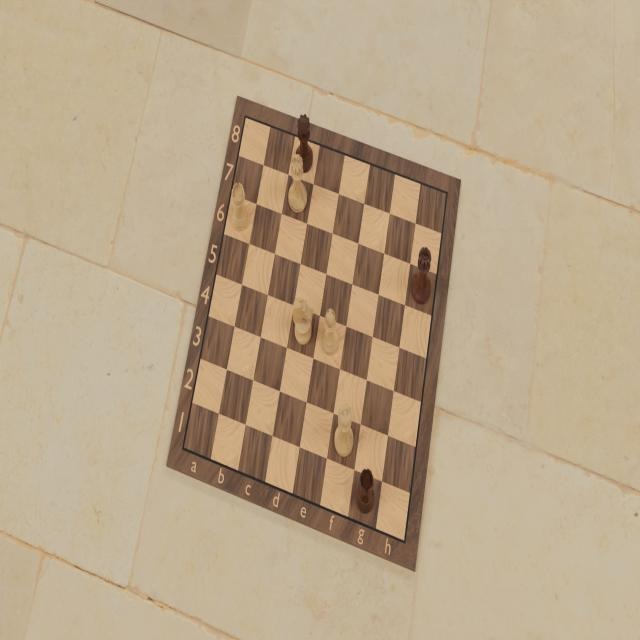black-king: (410, 245, 433, 307)
black-queen: (294, 113, 314, 173)
black-rook: (355, 468, 379, 516)
white-bishop: (318, 303, 340, 354)
white-king: (286, 155, 306, 217)
white-knight: (293, 297, 314, 347)
white-queen: (333, 403, 355, 461)
white-rook: (231, 181, 251, 231)
